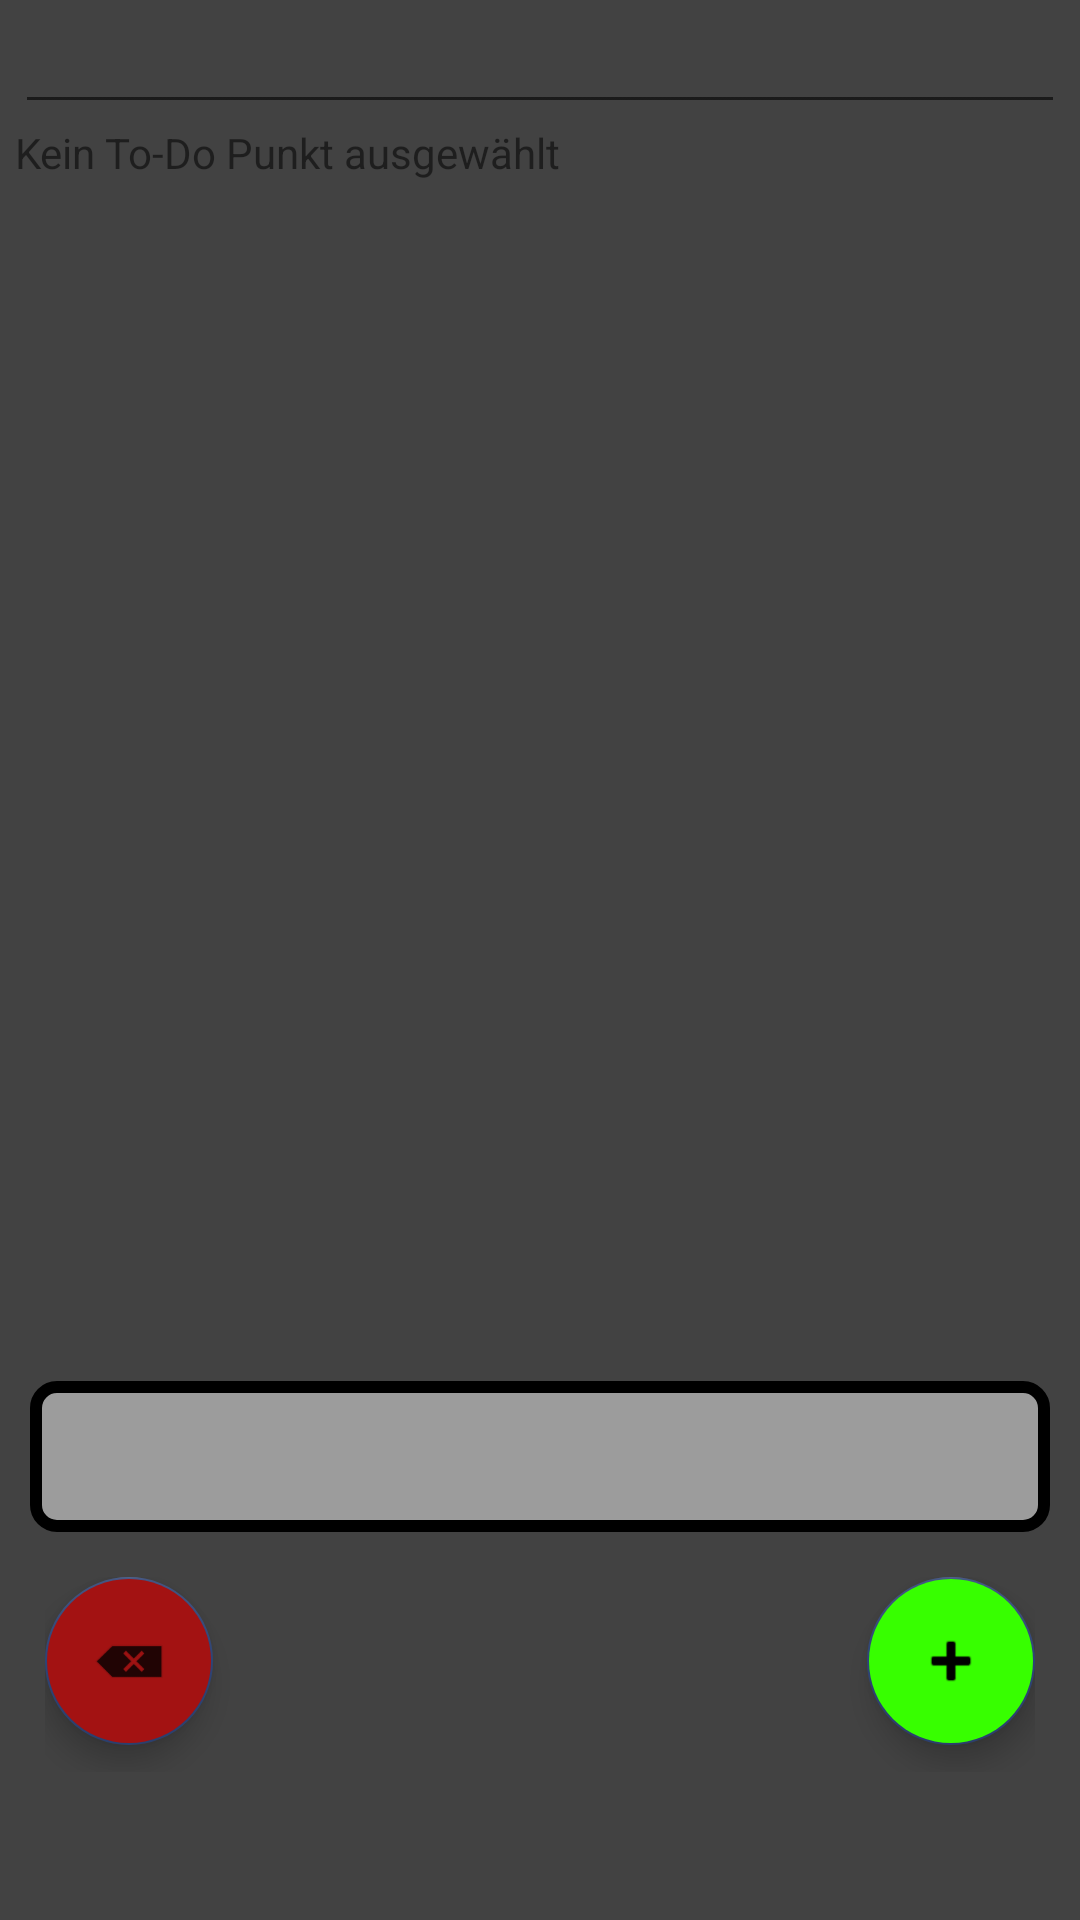

Named icons in this screenshot (1080x1920) and their centers, [x,y]:
add: [951,1661]
delete: [129,1661]
